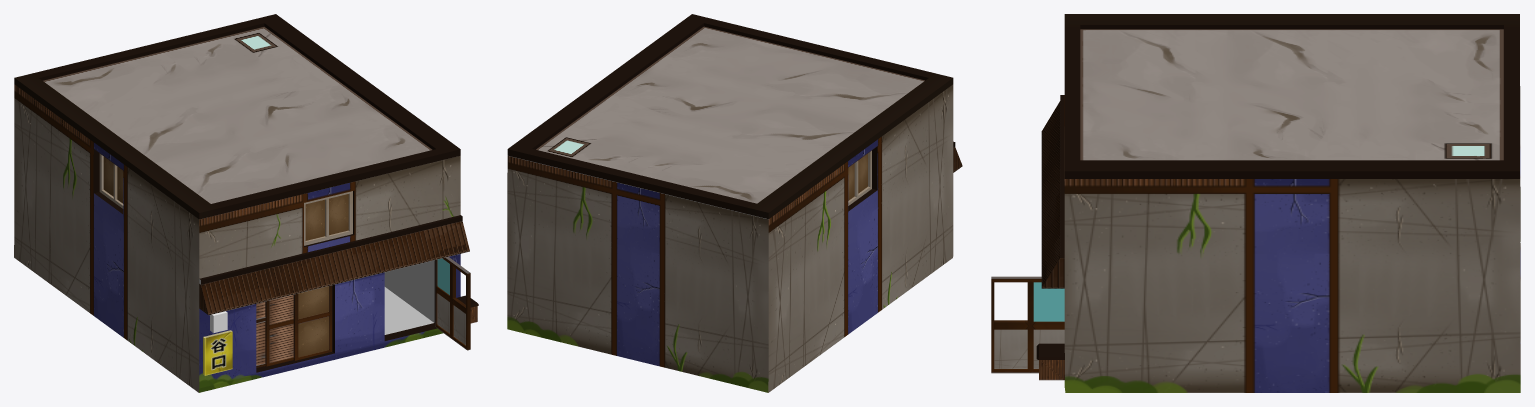
Rendered from House_Taniguchi.fbx.
The picture shows the model from 3 angles, left to right: view 1: azimuth 30°, elevation 25°; view 2: azimuth 150°, elevation 25°; view 3: azimuth 270°, elevation 25°; orthographic projection. The views are drawn at different scales.
Parts seen in each view (by area): view 1: Cube.052, Cube.048, Cube.045, Cube.043, Cube.046, Cube.051, Cube.044, Cube.061; view 2: Cube.052, Cube.044; view 3: Cube.052, Cube.045, Cube.049.
Part boxes in pixels (bbox=[...]): Cube.052: bbox=[14, 14, 469, 392]; Cube.048: bbox=[293, 285, 332, 360]; Cube.045: bbox=[435, 257, 470, 350]; Cube.043: bbox=[304, 191, 352, 245]; Cube.046: bbox=[265, 294, 293, 366]; Cube.051: bbox=[203, 330, 232, 375]; Cube.044: bbox=[99, 153, 123, 208]; Cube.061: bbox=[256, 301, 265, 367]; Cube.052: bbox=[507, 14, 962, 392]; Cube.044: bbox=[848, 150, 871, 205]; Cube.052: bbox=[1041, 14, 1520, 392]; Cube.045: bbox=[991, 276, 1064, 373]; Cube.049: bbox=[1036, 343, 1064, 380].
Bounding box in the file's own units: 893 × 571 × 1234.
